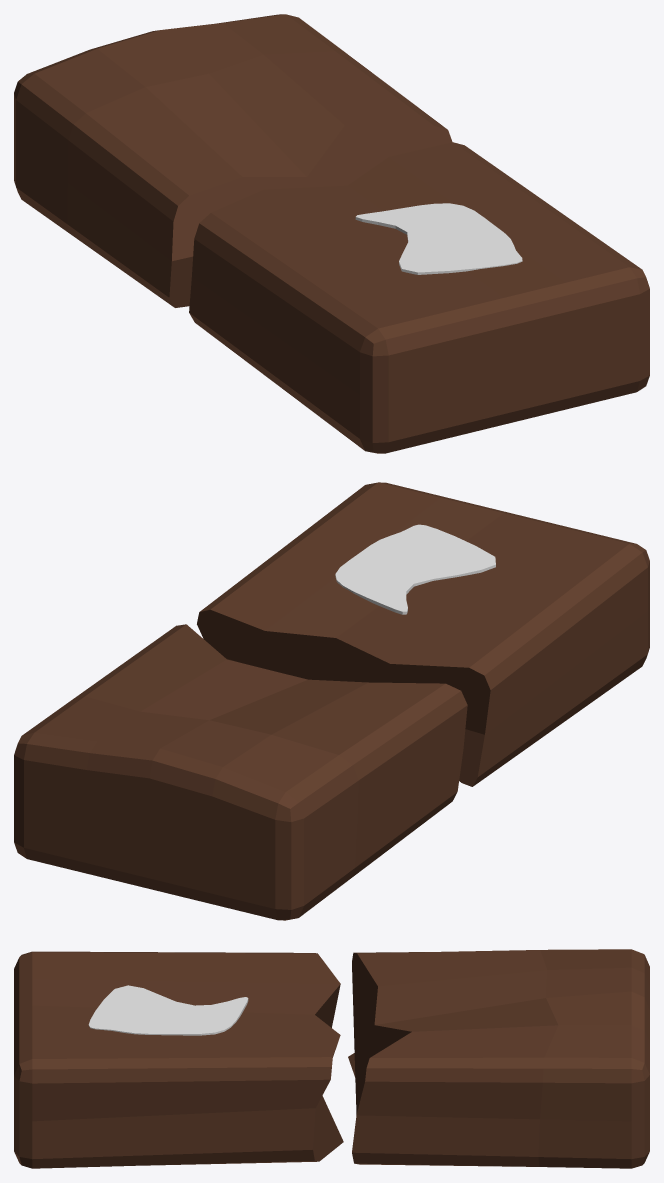
File: платформа земля.fbx
The picture shows the model from 3 angles, top to bottom: view 1: azimuth 30°, elevation 25°; view 2: azimuth 150°, elevation 25°; view 3: azimuth 270°, elevation 25°; orthographic projection. The views are drawn at different scales.
Visible parts, largest first — view 1: Cube, Circle; view 2: Cube, Circle; view 3: Cube, Circle.
Part boxes in pixels (x1,y1,x2,y2): Cube: [14, 14, 649, 453]; Circle: [355, 203, 522, 274]; Cube: [14, 482, 649, 920]; Circle: [335, 524, 495, 614]; Cube: [14, 949, 649, 1168]; Circle: [88, 985, 248, 1035].
Bounding box in the file's own units: 331 × 154 × 715.
